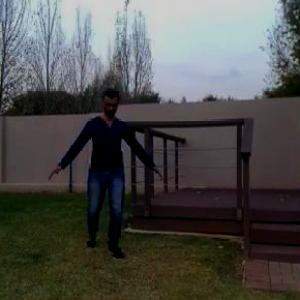land: (59, 82, 167, 269)
